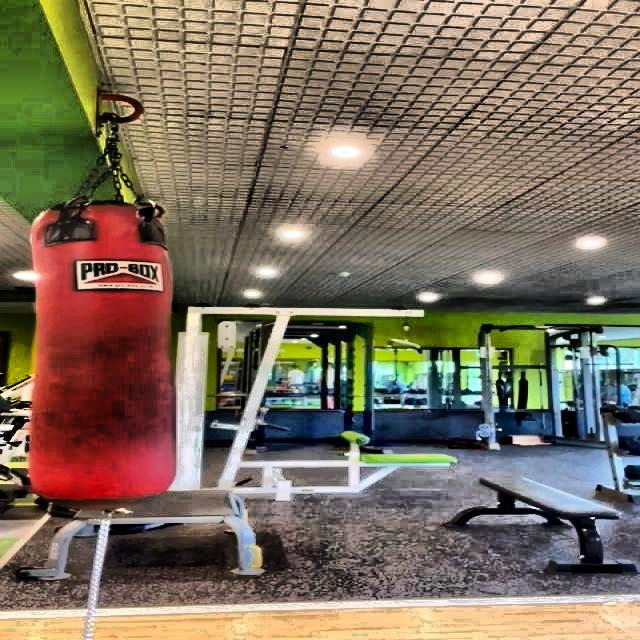boxing-bag: (33, 89, 174, 516)
